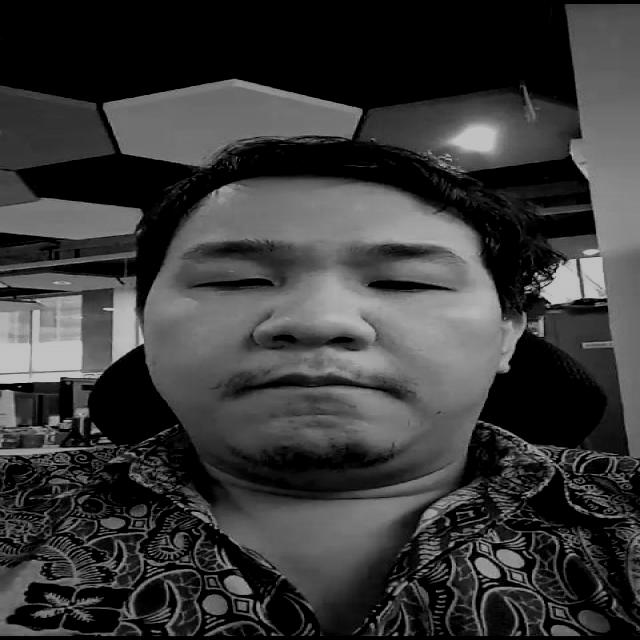real: (138, 193, 506, 482)
